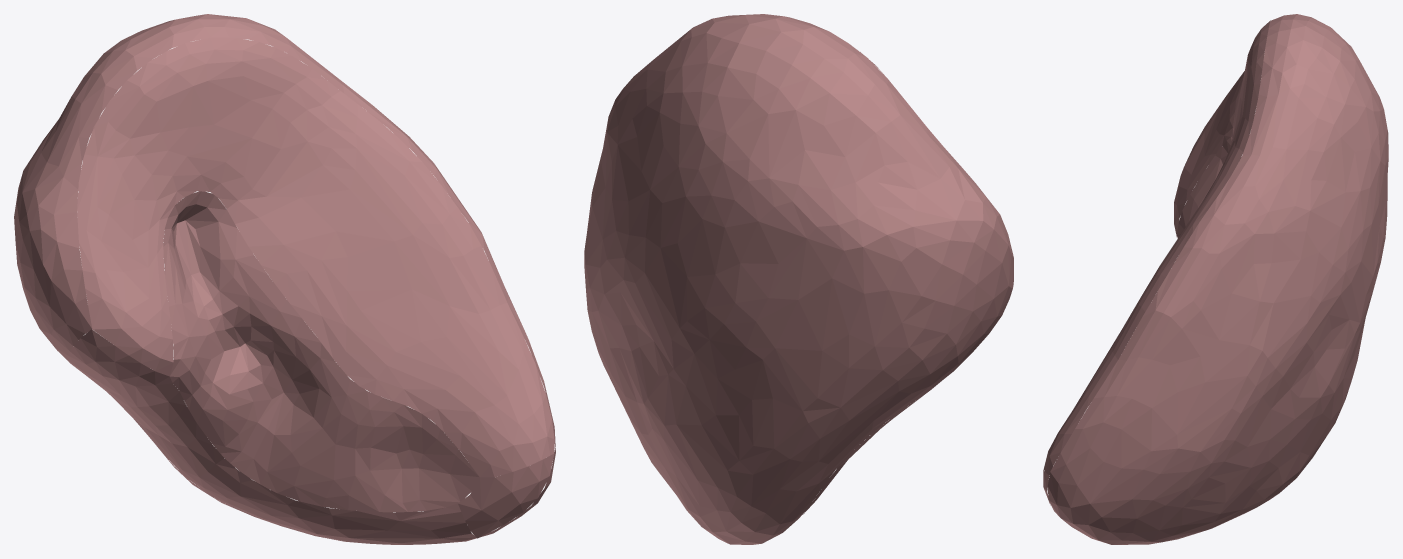
Rendered from VH_F_Spleen_0.2.glb.
3 renders of one model, left to right at view 1: azimuth 30°, elevation 25°; view 2: azimuth 150°, elevation 25°; view 3: azimuth 270°, elevation 25°, orthographic. The views are drawn at different scales.
Parts seen in each view (by area): view 1: VH_F_gastric_surface_of_spleen, VH_F_hilum_of_spleen, VH_F_diaphragmatic_surface_of_spleen, VH_F_renal_surface_of_spleen, VH_F_colic_surface_of_spleen; view 2: VH_F_diaphragmatic_surface_of_spleen; view 3: VH_F_diaphragmatic_surface_of_spleen, VH_F_gastric_surface_of_spleen, VH_F_hilum_of_spleen.
Boxes of the visible parts, x1,y1,x2,y2 form: VH_F_gastric_surface_of_spleen: (77,37,554,477); VH_F_hilum_of_spleen: (163,191,479,512); VH_F_diaphragmatic_surface_of_spleen: (14,14,555,544); VH_F_renal_surface_of_spleen: (67,329,476,544); VH_F_colic_surface_of_spleen: (458,454,554,538); VH_F_diaphragmatic_surface_of_spleen: (584,14,1013,544); VH_F_diaphragmatic_surface_of_spleen: (1047,14,1388,544); VH_F_gastric_surface_of_spleen: (1043,20,1270,475); VH_F_hilum_of_spleen: (1177,137,1241,238).
Size of the model in its own units: 0.0897 by 0.1023 by 0.0711.
